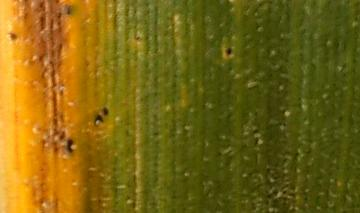tarspot: (91, 115, 105, 127), (66, 137, 75, 154), (8, 31, 19, 42), (224, 47, 233, 57), (101, 107, 110, 117), (66, 5, 73, 16)
